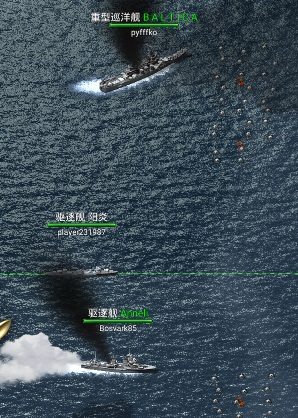ship: (101, 44, 190, 95), (82, 356, 159, 377), (44, 264, 120, 279)
